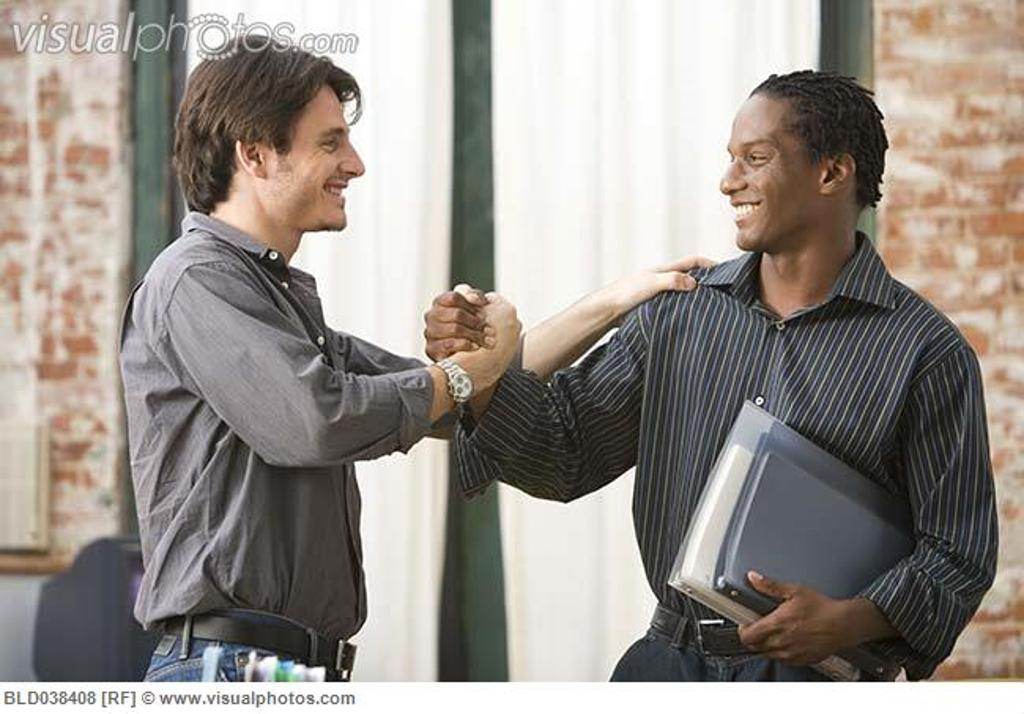face: (720, 94, 816, 252), (276, 84, 364, 230)
